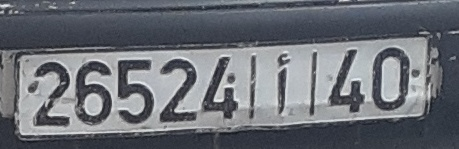0: (370, 42, 412, 113)
2: (156, 54, 202, 127), (31, 59, 73, 130)
4: (200, 52, 246, 120), (327, 44, 368, 116)
5: (114, 55, 156, 125)
6: (75, 57, 115, 126)
a: (269, 50, 296, 117)
